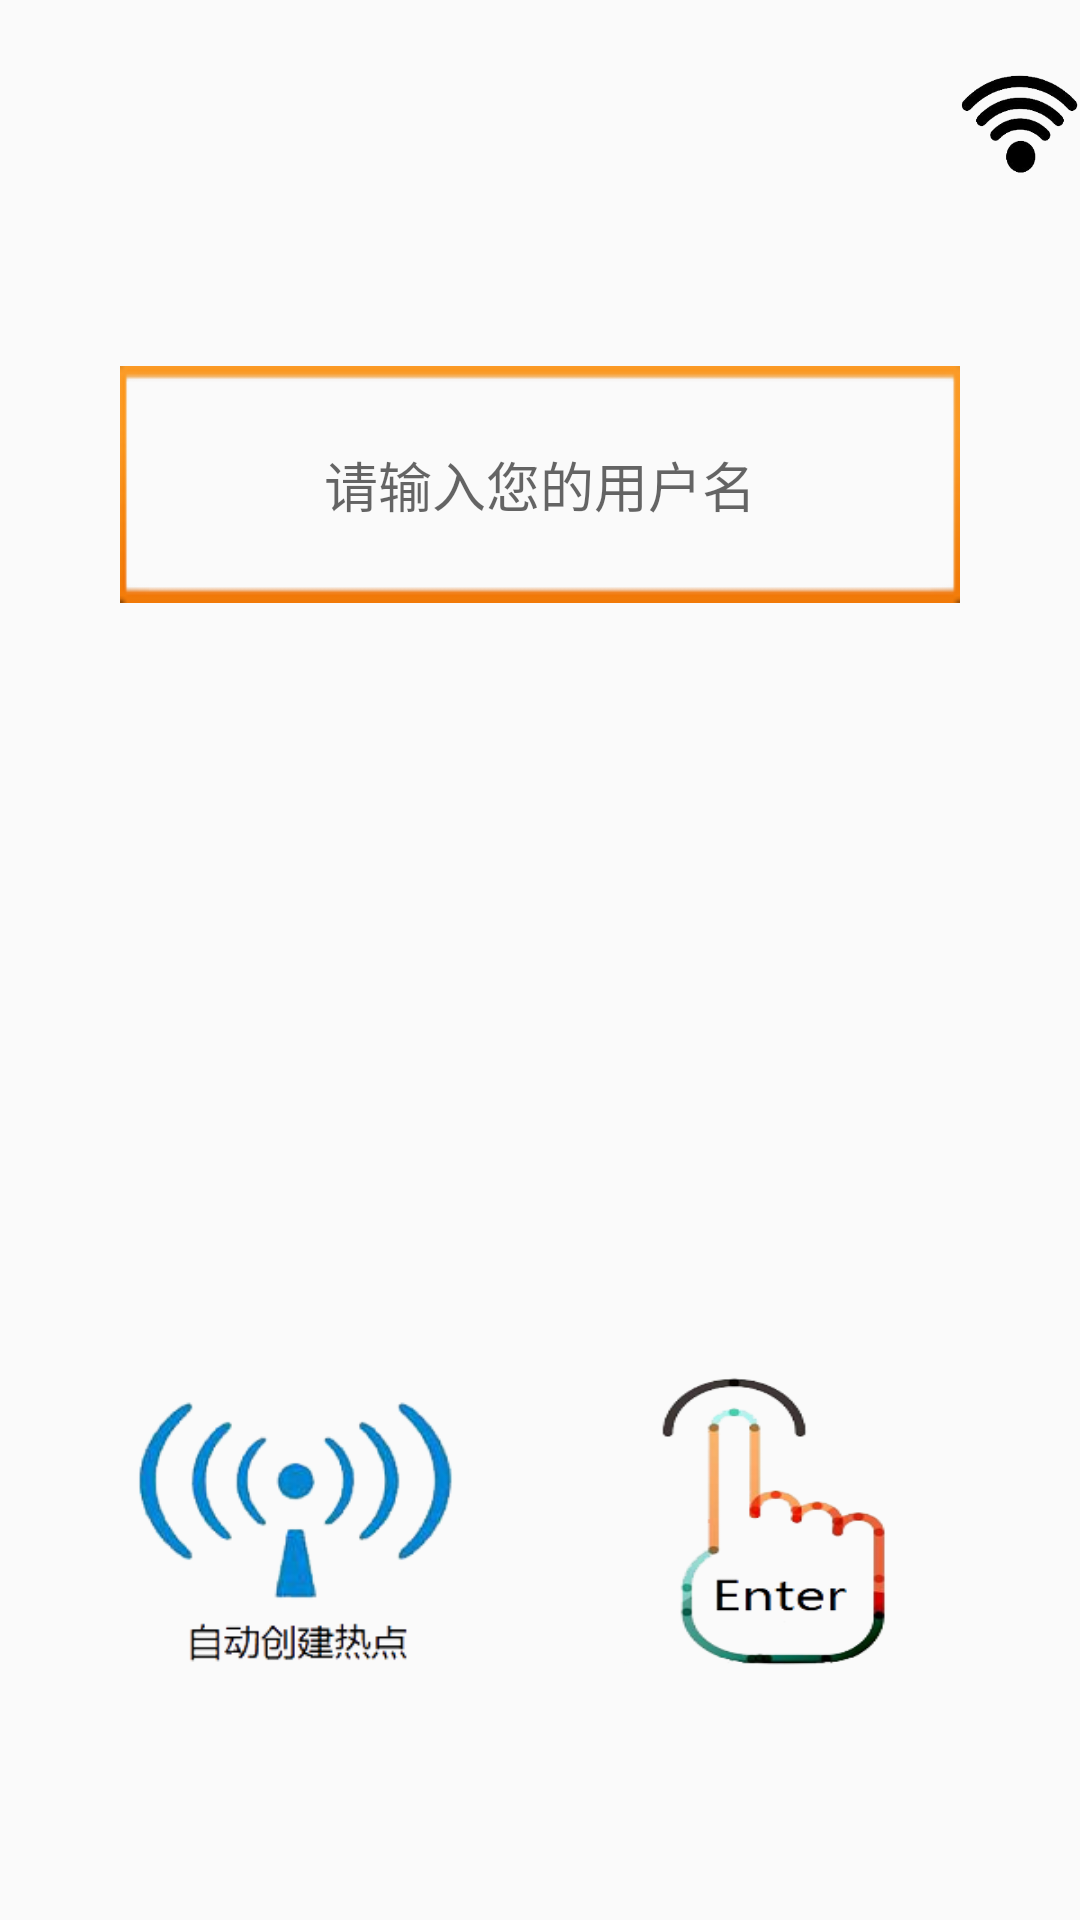

Screen size 1080px x 1920px. Icon name, then its center in pixels as point (x, y):
wifi link: point (1020, 124)
